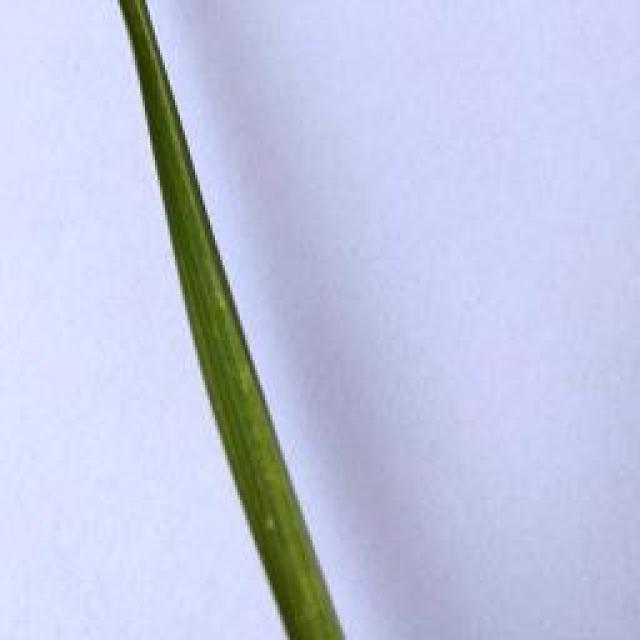Healthy-Plant: (111, 0, 345, 640)
